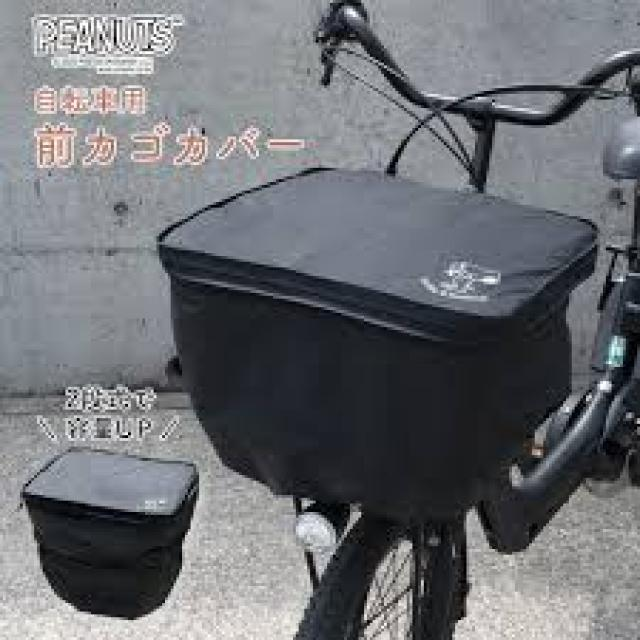basket: (156, 172, 598, 521), (15, 445, 201, 623)
